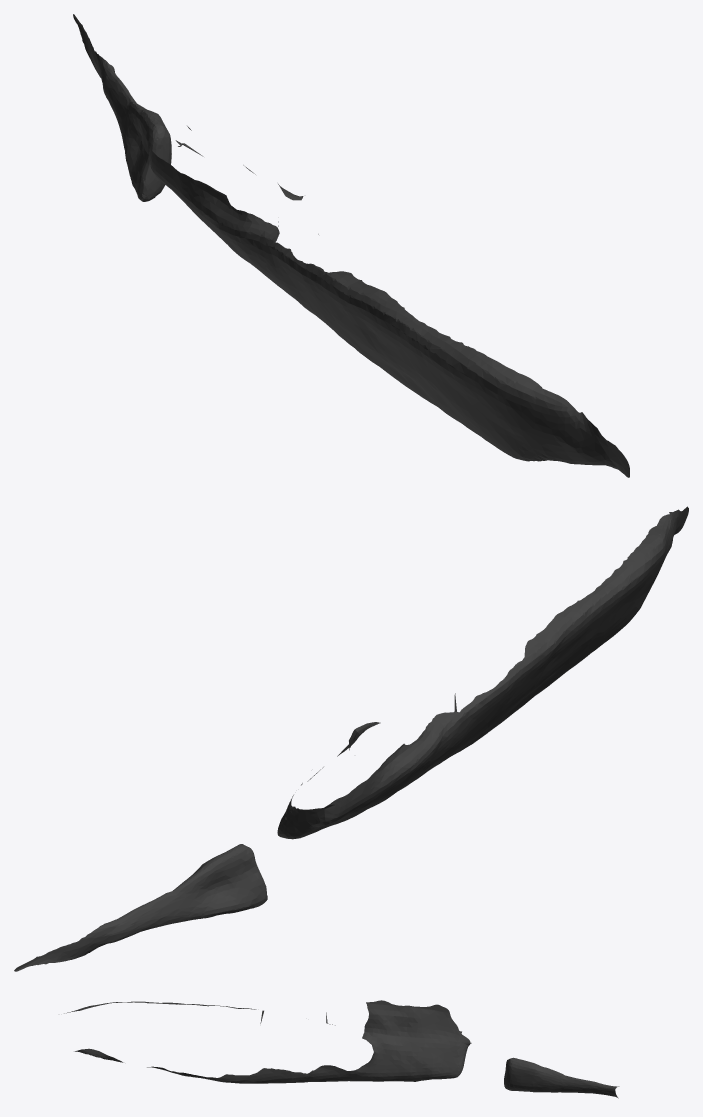
File: musc_flex_carpi_radialis.glb
3 views of the same model, one above another, from view 1: azimuth 30°, elevation 25°; view 2: azimuth 150°, elevation 25°; view 3: azimuth 270°, elevation 25° (orthographic). The views are drawn at different scales.
Visible parts, largest first — view 1: musc_flex_carpi_radialis; view 2: musc_flex_carpi_radialis; view 3: musc_flex_carpi_radialis.
Boxes of the visible parts, x1,y1,x2,y2 form: musc_flex_carpi_radialis: (73,14,629,477); musc_flex_carpi_radialis: (14,506,688,971); musc_flex_carpi_radialis: (64,1000,619,1098).
Bounding box in the file's own units: 0.0891 × 0.0779 × 0.568.
1 material, 1 textured.
